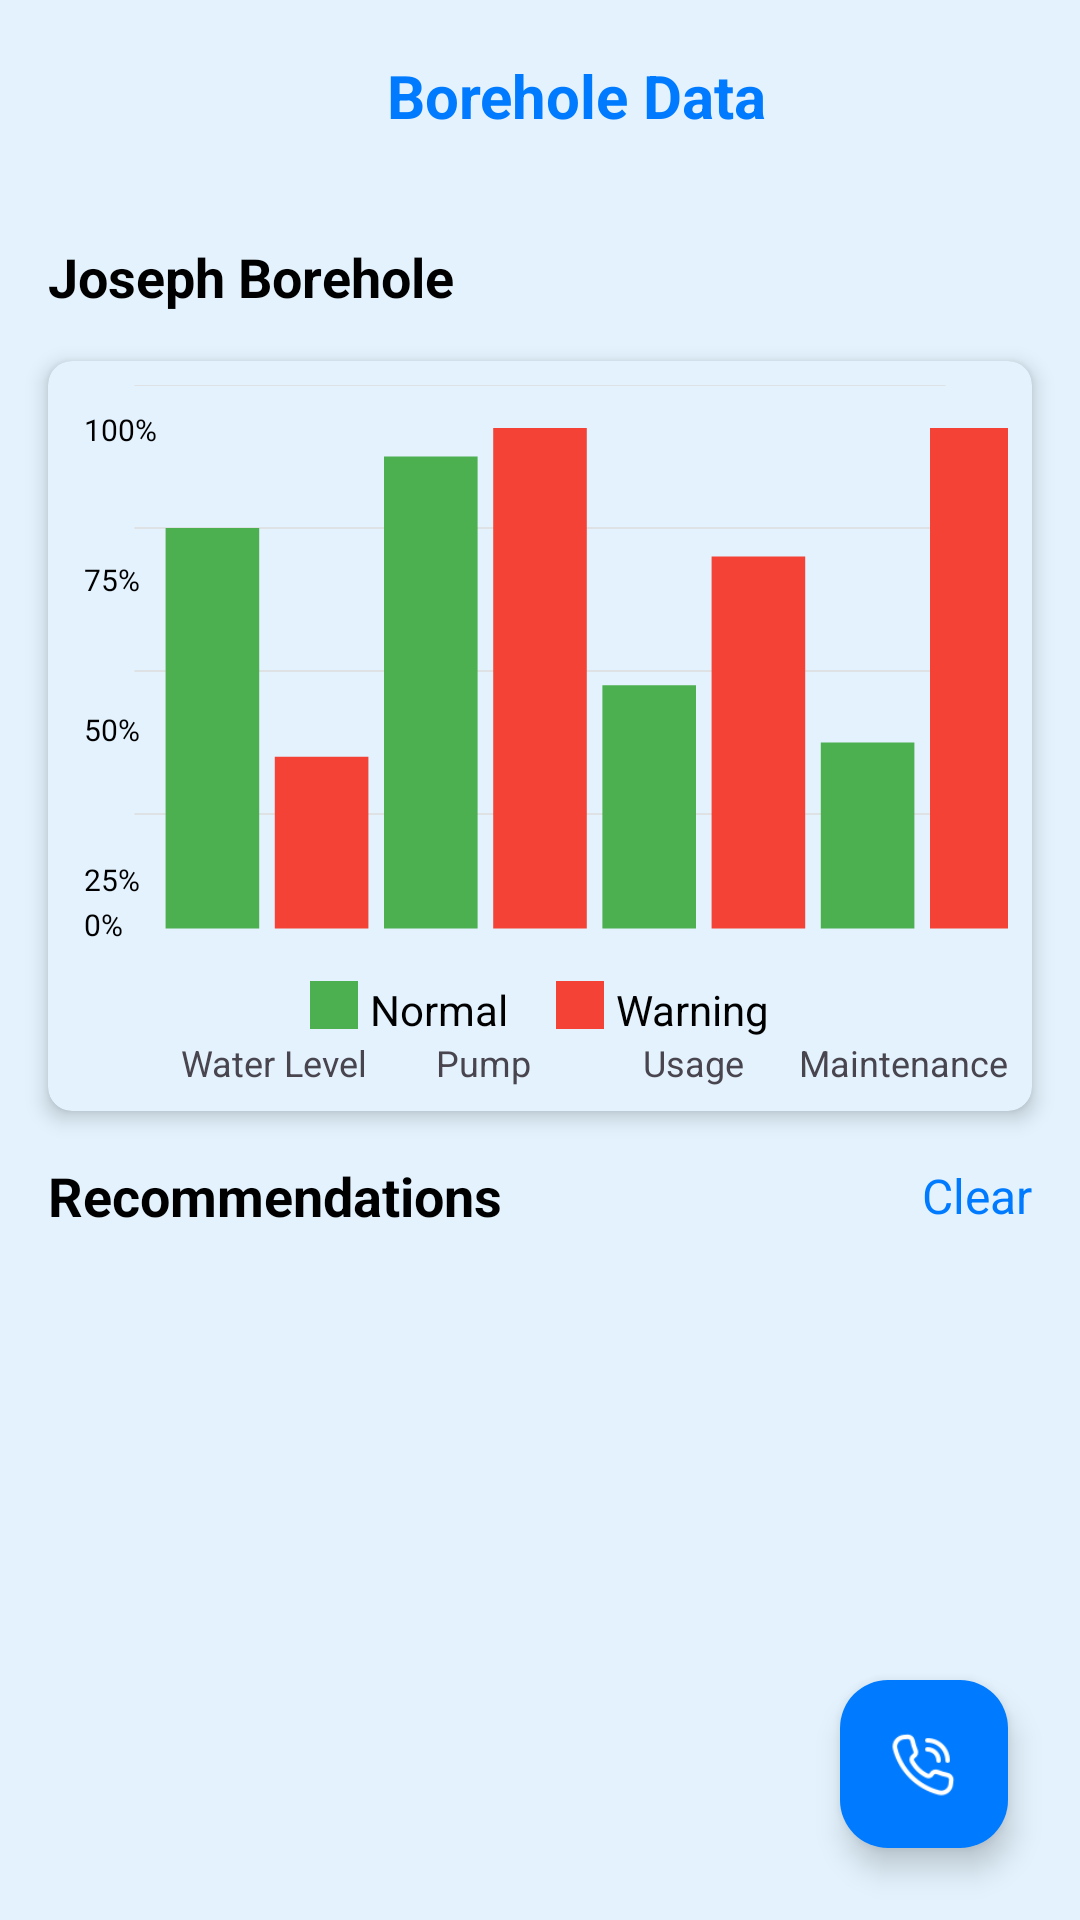

Screen size 1080 × 1920. Icon name, then its box in pixels as (x1, y1, x2, y2):
Call: (840, 1680, 1008, 1848)
